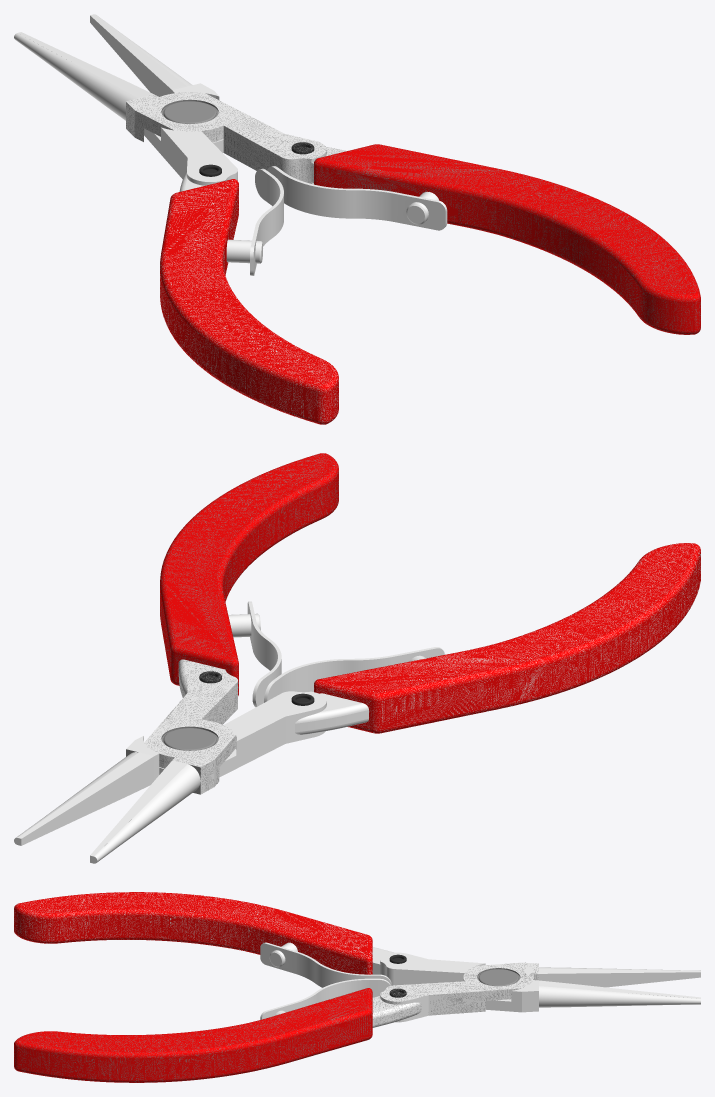
File: plier2.dae
3 views of the same model, one above another, from view 1: azimuth 30°, elevation 25°; view 2: azimuth 150°, elevation 25°; view 3: azimuth 270°, elevation 25° (orthographic). The views are drawn at different scales.
Visible parts, largest first — view 1: group_2 (×3), group_5 (×2), Component_9 (×2), group_3, group_6; view 2: group_5 (×2), group_2 (×3), Component_9 (×2), group_6, group_3; view 3: group_2 (×4), group_5 (×2), Component_9 (×2), group_6, group_3.
Boxes of the visible parts, box(x1,y1,x2,y2) form: group_2 (×3): box(126, 92, 700, 334); group_5 (×2): box(144, 83, 338, 424); Component_9 (×2): box(250, 166, 447, 275); group_3: box(14, 32, 153, 120); group_6: box(90, 14, 192, 96); group_5 (×2): box(126, 543, 700, 780); group_2 (×3): box(144, 453, 338, 794); Component_9 (×2): box(247, 601, 444, 707); group_6: box(14, 752, 154, 845); group_3: box(90, 760, 200, 863); group_2 (×4): box(14, 962, 538, 1082); group_5 (×2): box(14, 892, 538, 1012); Component_9 (×2): box(260, 942, 391, 1019); group_6: box(539, 980, 700, 1007); group_3: box(539, 967, 700, 987).
Size of the model in its own units: 3.16 by 5.62 by 0.2717.
